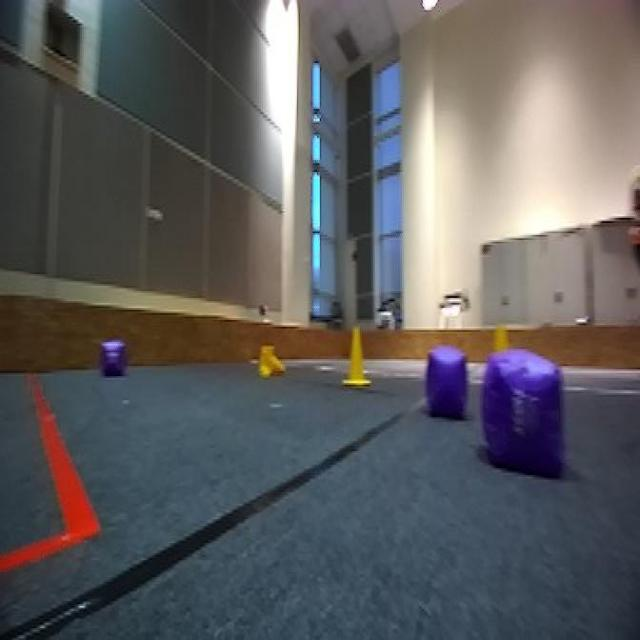frc_cone: (341, 325, 371, 392), (256, 342, 286, 378)
frc_cube: (479, 349, 569, 475), (422, 342, 472, 414), (98, 338, 128, 384)
